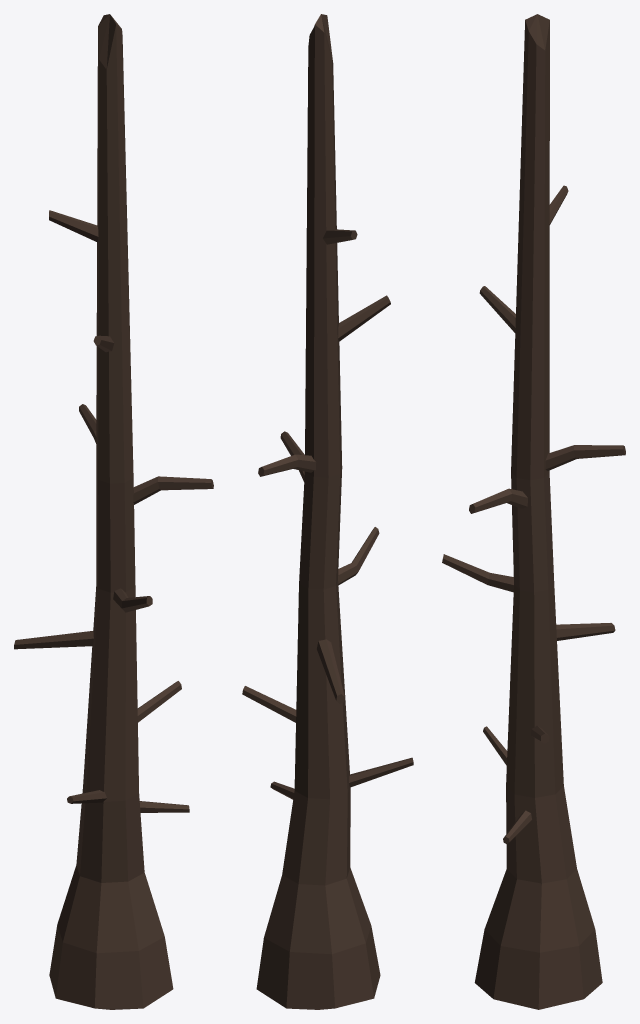
File: SM_Tree_Pine_Dead_01.fbx
3 views of the same model, side by side, from view 1: azimuth 30°, elevation 25°; view 2: azimuth 150°, elevation 25°; view 3: azimuth 270°, elevation 25° (orthographic).
Visible parts, largest first — view 1: SM_Tree_Pine_Dead_01; view 2: SM_Tree_Pine_Dead_01; view 3: SM_Tree_Pine_Dead_01.
Boxes of the visible parts, x1=… form: SM_Tree_Pine_Dead_01: x1=14, y1=14, x2=213, y2=1009; SM_Tree_Pine_Dead_01: x1=242, y1=14, x2=413, y2=1009; SM_Tree_Pine_Dead_01: x1=442, y1=14, x2=625, y2=1009.
Bounding box in the file's own units: 100 × 673 × 113.
Materials: 1 (1 with a texture image).
